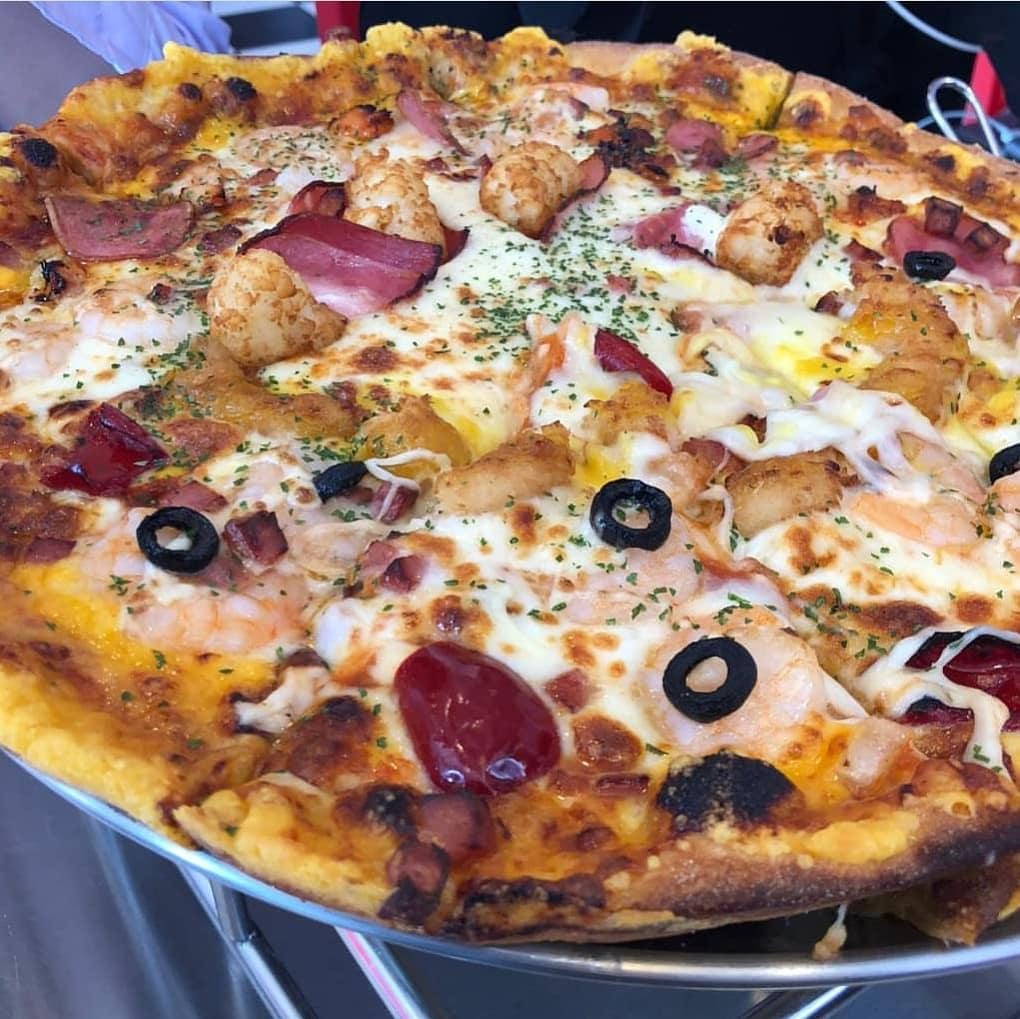Bacon: (229, 206, 442, 317), (591, 97, 781, 190), (69, 397, 177, 513), (37, 184, 211, 250)
Chicken: (827, 274, 1003, 424), (364, 392, 571, 513), (181, 331, 347, 435), (666, 424, 854, 510), (722, 177, 834, 265), (471, 151, 575, 223), (897, 191, 993, 266), (349, 154, 441, 230)
Olives: (666, 630, 756, 721), (134, 494, 221, 581), (587, 471, 674, 552), (317, 454, 379, 509), (966, 434, 1020, 493), (911, 237, 956, 286)
Pizza: (0, 31, 1019, 931)
Tomatoes: (377, 647, 575, 788)
